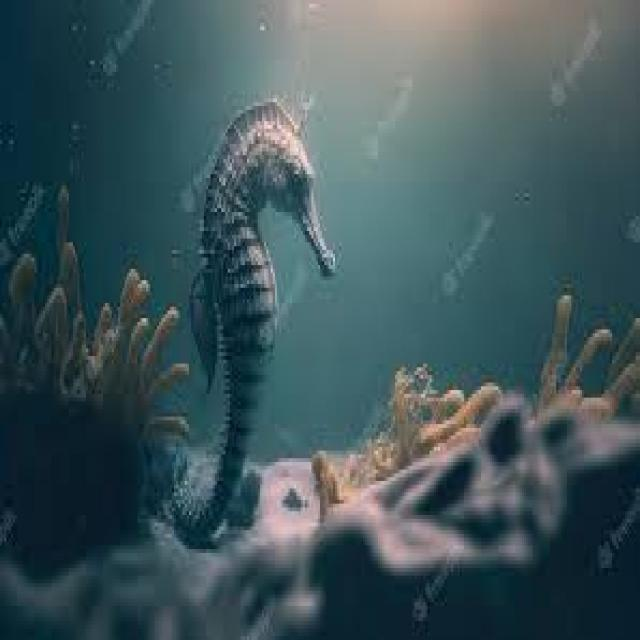SeaHorse: (174, 95, 337, 549)
